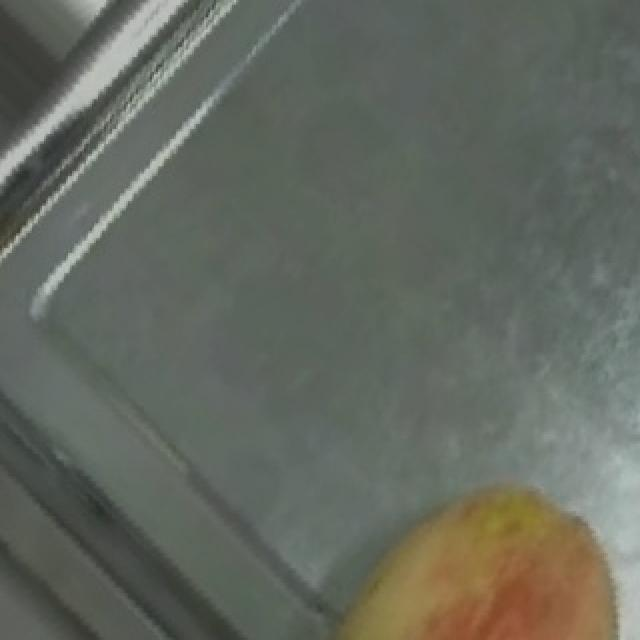Fruit: (306, 454, 640, 640)
